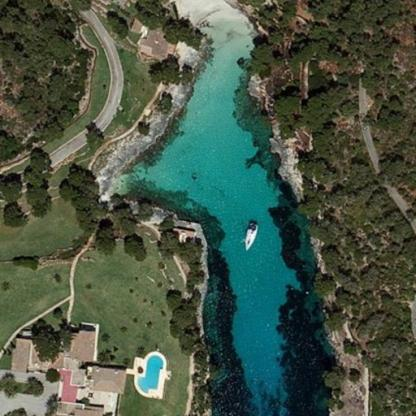ship: (234, 216, 266, 254)
